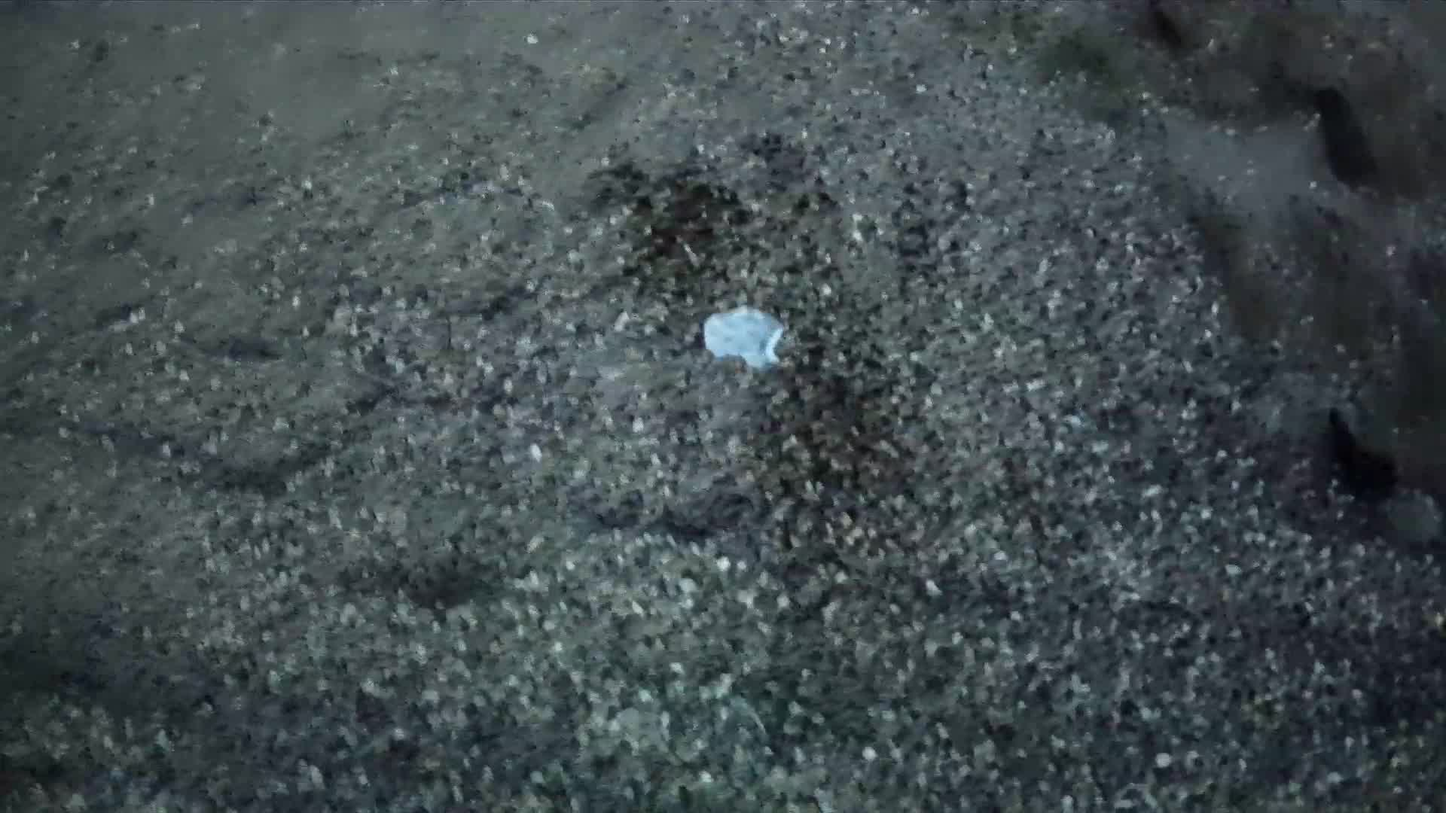Target: (698, 302, 796, 376)
